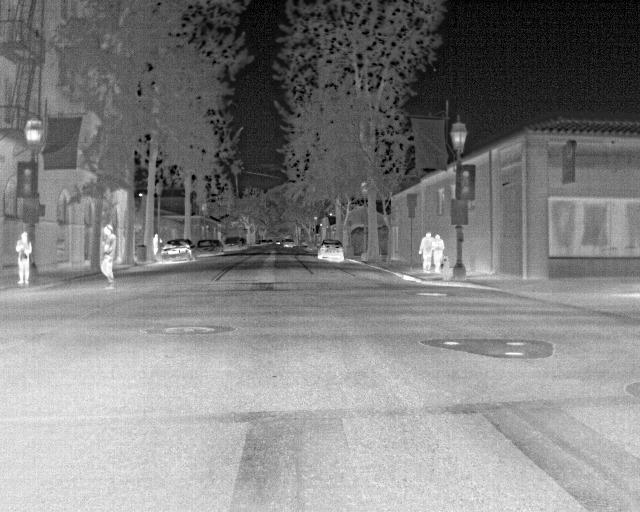bicycle: (156, 240, 196, 263), (314, 238, 348, 265), (193, 239, 222, 257), (223, 234, 245, 254), (280, 238, 296, 251)
empty: (13, 232, 33, 286), (96, 222, 113, 284), (416, 232, 431, 274), (430, 233, 445, 273), (148, 230, 161, 256)
